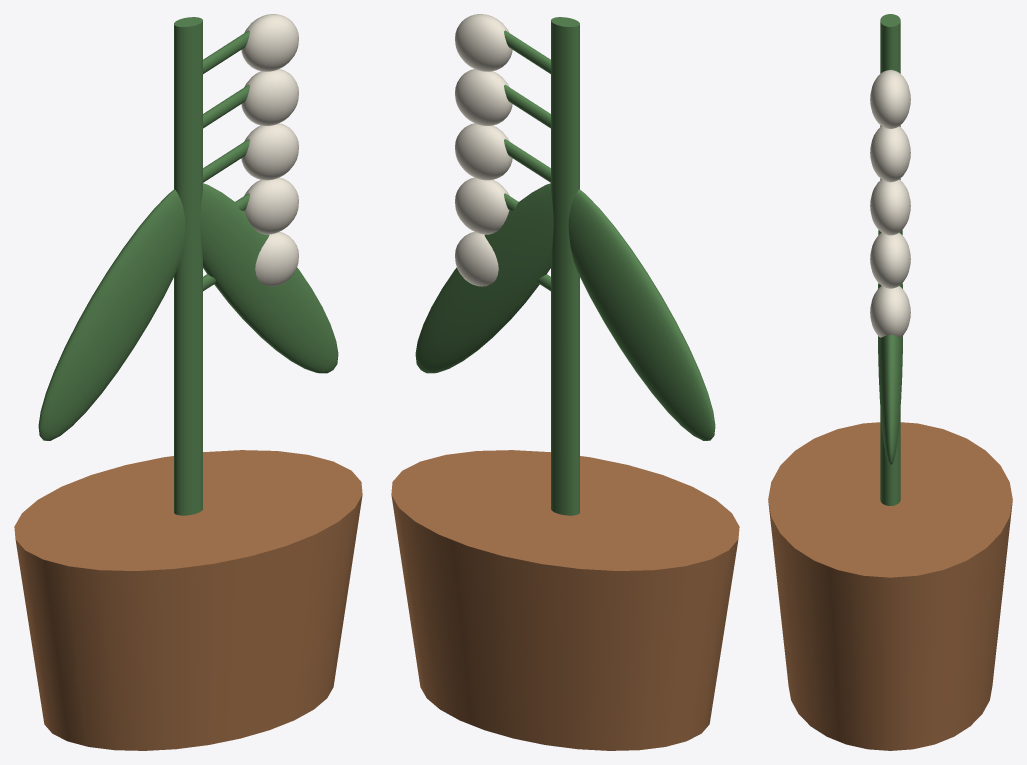
The model's file is wp-brin-de-muguet.glb.
3 views of the same model, side by side, from view 1: azimuth 30°, elevation 25°; view 2: azimuth 150°, elevation 25°; view 3: azimuth 270°, elevation 25° (orthographic).
Visible parts, largest first — view 1: wp-brin-de-muguet; view 2: wp-brin-de-muguet; view 3: wp-brin-de-muguet.
Boxes of the visible parts, box(x1,y1,x2,y2) form: wp-brin-de-muguet: box(14, 14, 362, 750); wp-brin-de-muguet: box(391, 14, 739, 750); wp-brin-de-muguet: box(768, 14, 1012, 750).
Bounding box in the file's own units: 0.1511 × 0.3 × 0.1.
